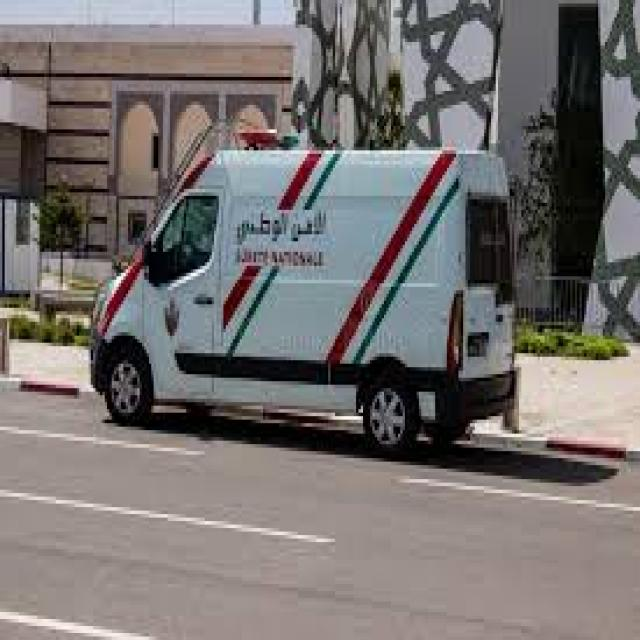Police car: (82, 108, 527, 478)
